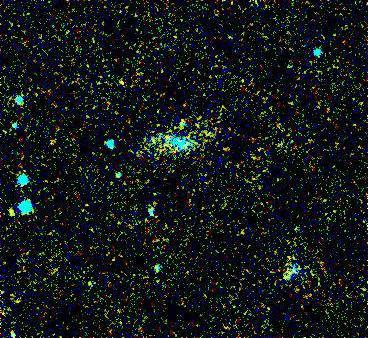star: (0, 199, 25, 229)
